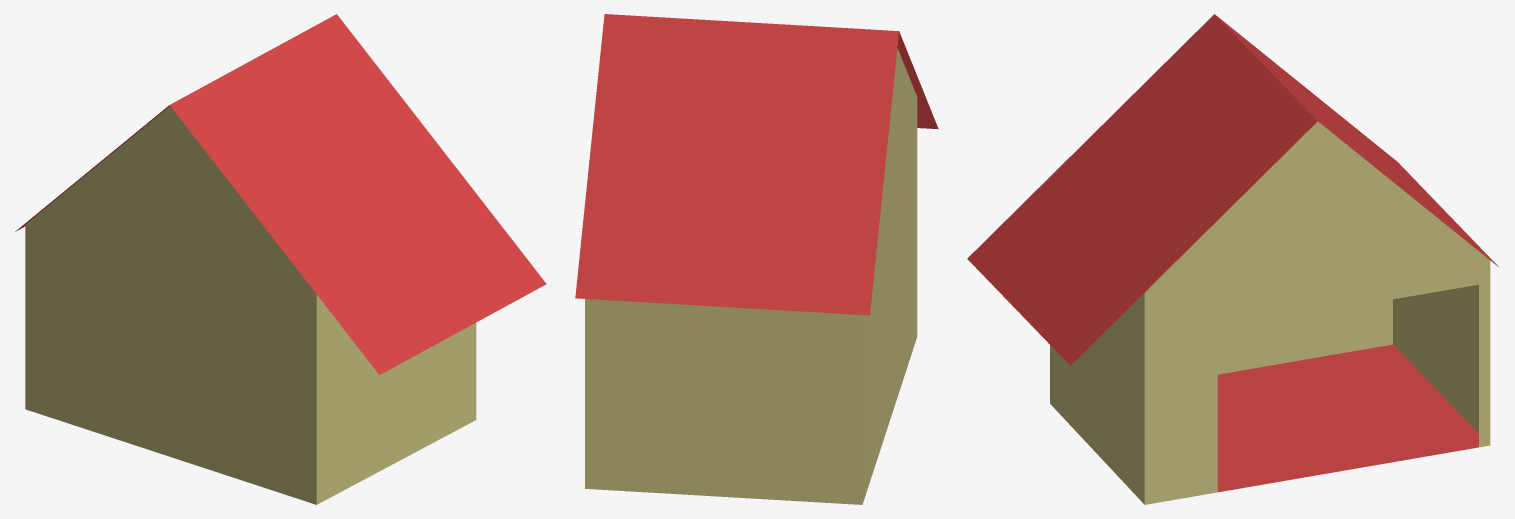
3 views of the same model, side by side, from view 1: azimuth 30°, elevation 25°; view 2: azimuth 150°, elevation 25°; view 3: azimuth 270°, elevation 25° (orthographic). The views are drawn at different scales.
Bounding box in the file's own units: 13.37 × 16.63 × 12.29.
